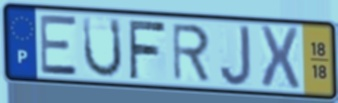E: (37, 14, 80, 78)
F: (126, 18, 168, 81)
J: (218, 23, 253, 89)
R: (170, 22, 212, 84)
U: (81, 14, 125, 80)
X: (257, 23, 302, 91)
